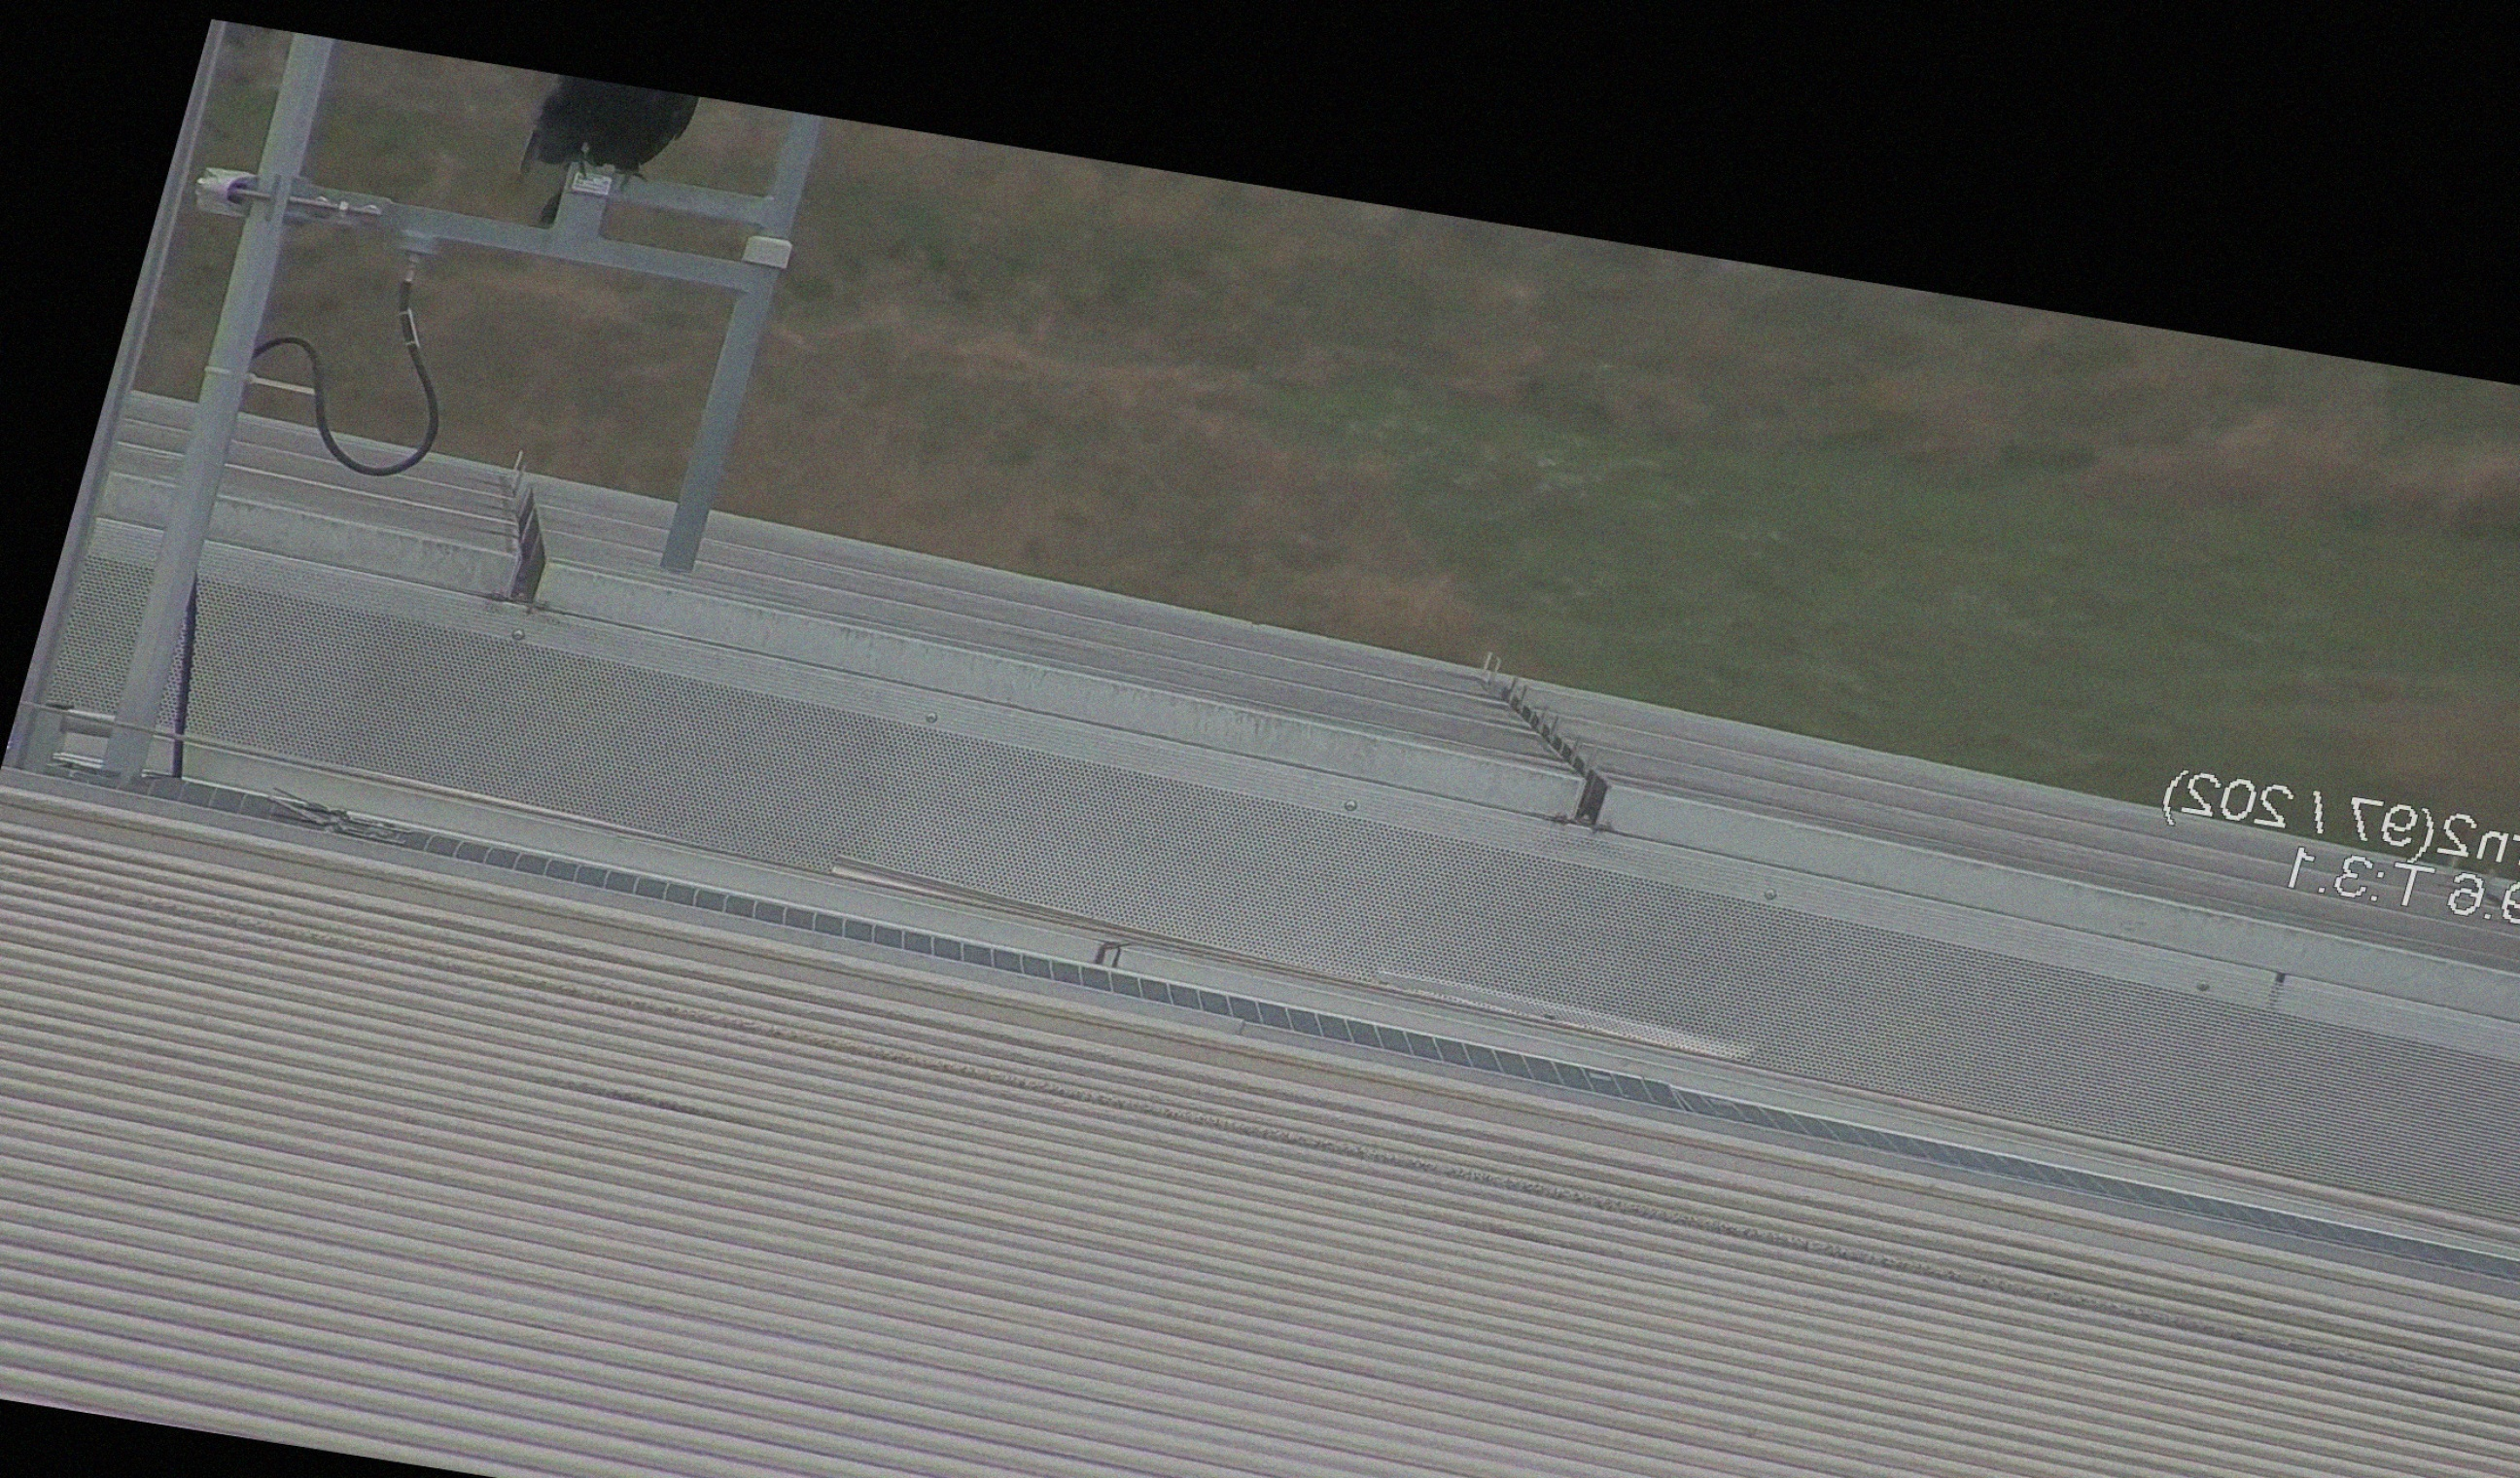Other: (471, 67, 695, 234)
